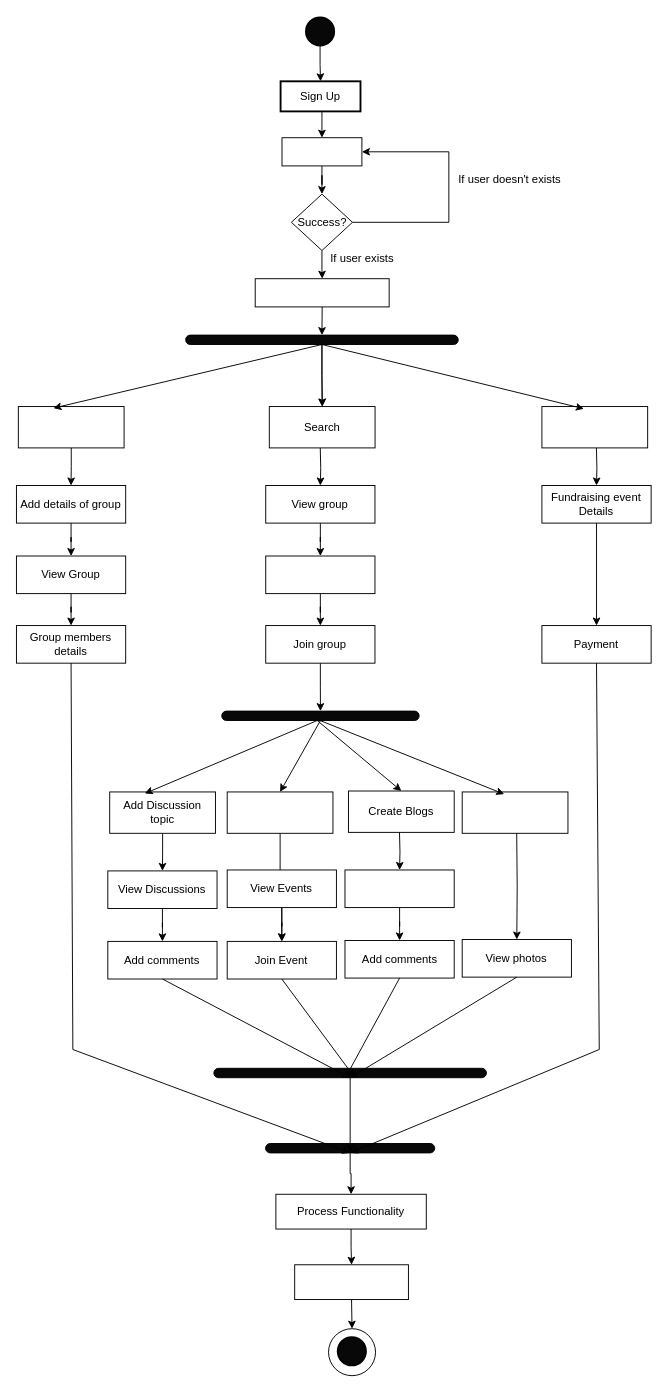
This 668x1392 diagram has some shape labels left out. The centre of each missing label's shape, as x and y in pixels:
"/Add Photos" belongs at (x=514, y=812).
"Choose Functionality" belongs at (x=321, y=292).
"Create Events" belongs at (x=279, y=812).
"Create Groups" belongs at (x=70, y=427).
"Fundraising events" belongs at (x=594, y=427).
"Login" belongs at (x=321, y=151).
"Logout" belongs at (x=351, y=1282).
"View Blogs" belongs at (x=399, y=888).
"View group details" belongs at (x=320, y=574).
